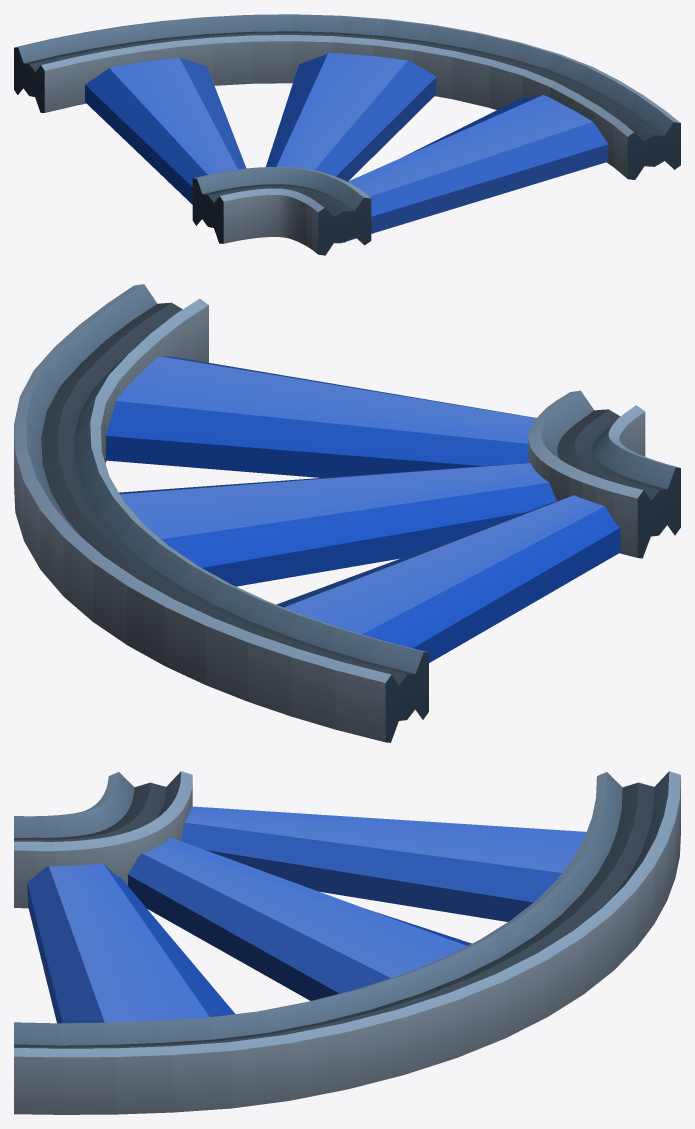
File: 1br-sol-ray.fbx
3 views of the same model, one above another, from view 1: azimuth 30°, elevation 25°; view 2: azimuth 150°, elevation 25°; view 3: azimuth 270°, elevation 25° (orthographic). The views are drawn at different scales.
Parts seen in each view (by area): view 1: 1br-Sol; view 2: 1br-Sol; view 3: 1br-Sol.
Boxes of the visible parts, <box> form: 1br-Sol: <box>14,14,680,255</box>; 1br-Sol: <box>14,284,680,742</box>; 1br-Sol: <box>14,771,680,1114</box>.
Bounding box in the file's own units: 175 × 19.17 × 174.
